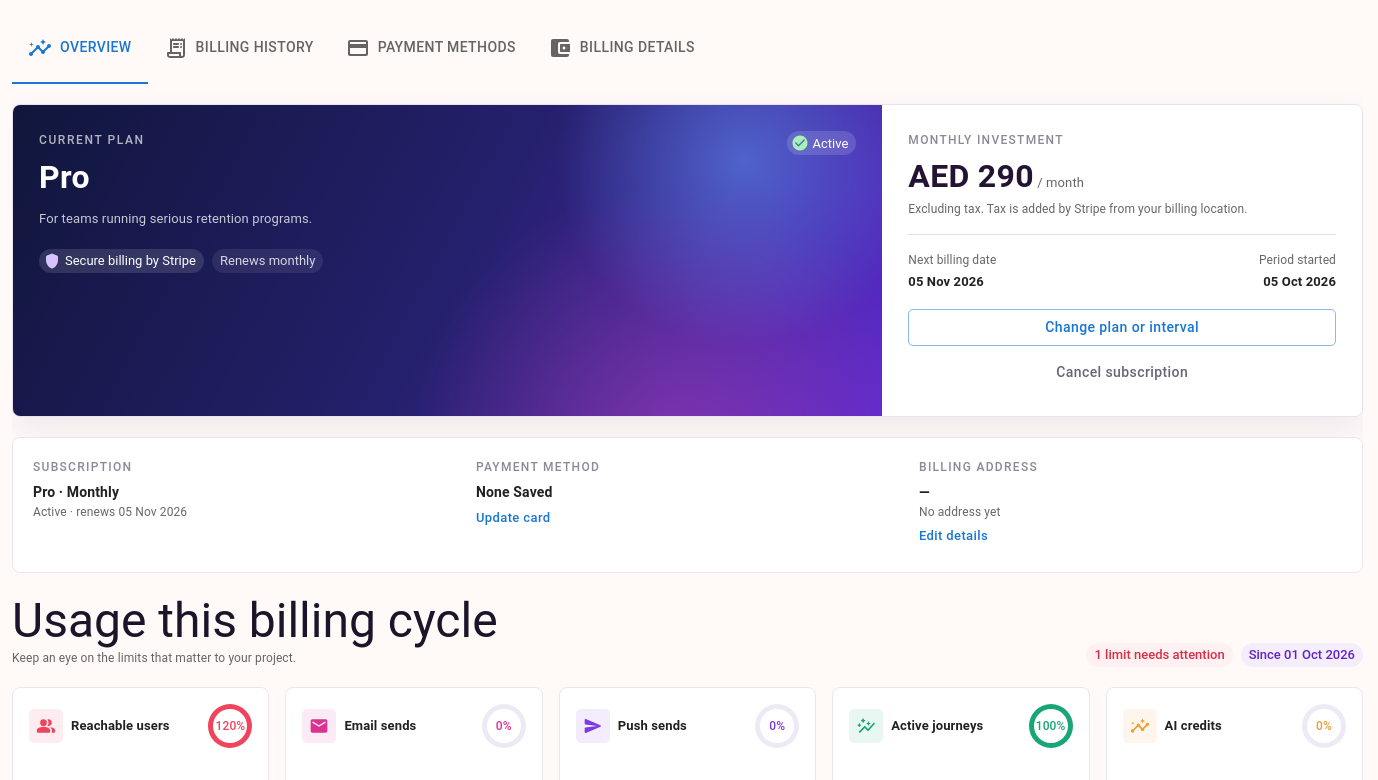
BillingSection › renders real invoices in AED
Click the tab "Billing history".
click(239, 48)  # box [148, 12, 330, 84]
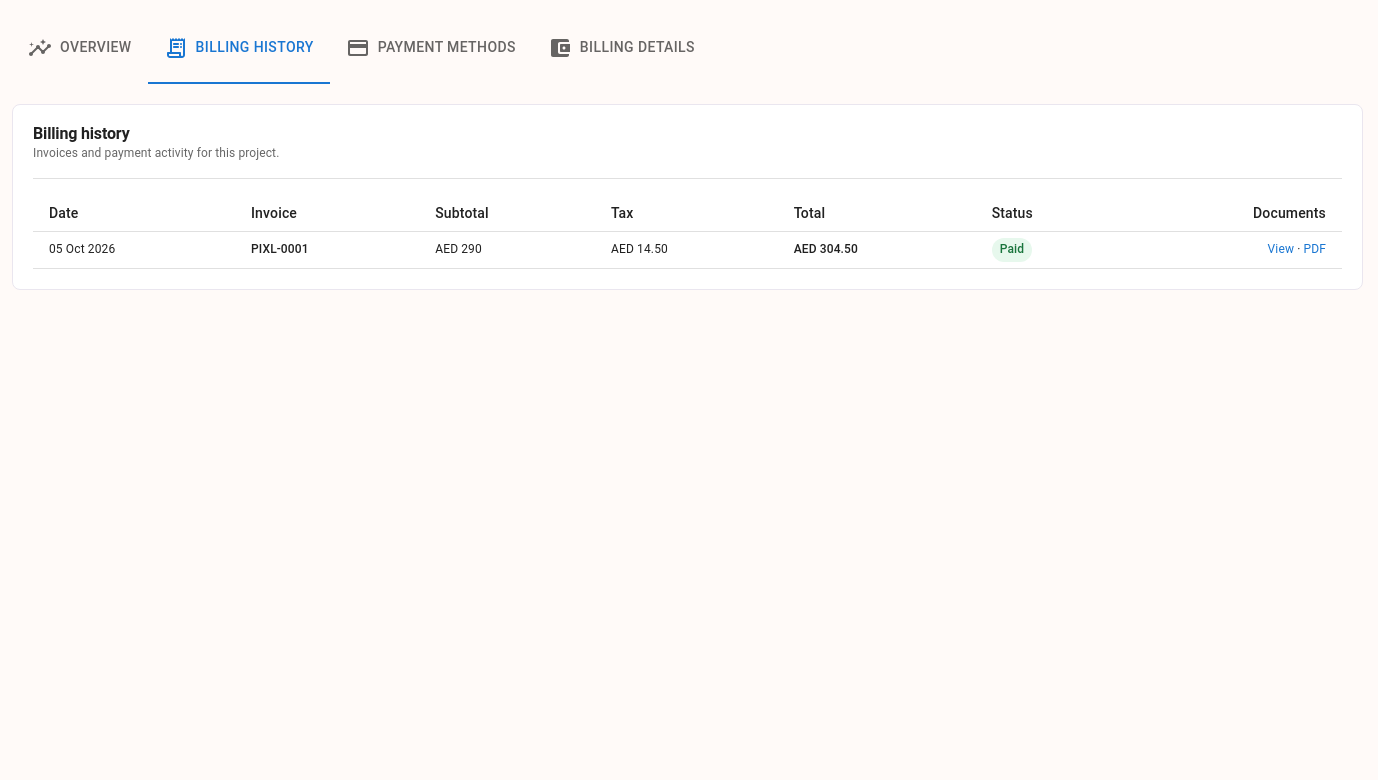
Check: the text "AED 290" is shown, box [419, 231, 595, 268]
Check: the text "AED 14.50" is shown, box [595, 231, 778, 268]
Check: the text "AED 304.50" is shown, box [778, 231, 976, 268]
